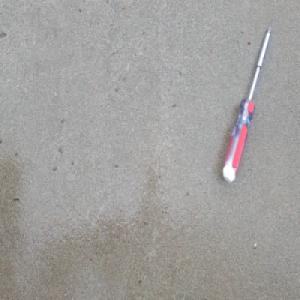Screwdriver: (222, 23, 272, 185)
